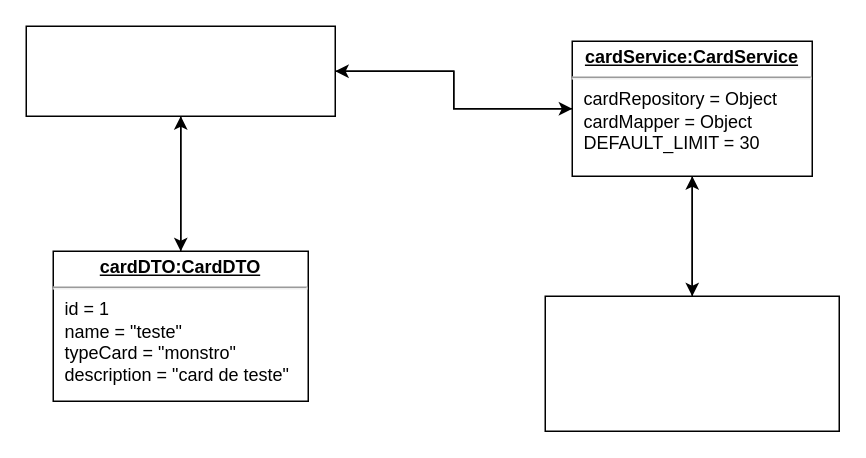
The diagram is 866 pixels wide and 458 high, and some of its shapes have lost their labels. The centre of each missing label's shape, as x and y in pixels:
"cardRepository:CardRepository cardService = Object" goes at point 180,70.
"cardRepository:CardRepository jdbcTemplate = Object" goes at point 691,363.
